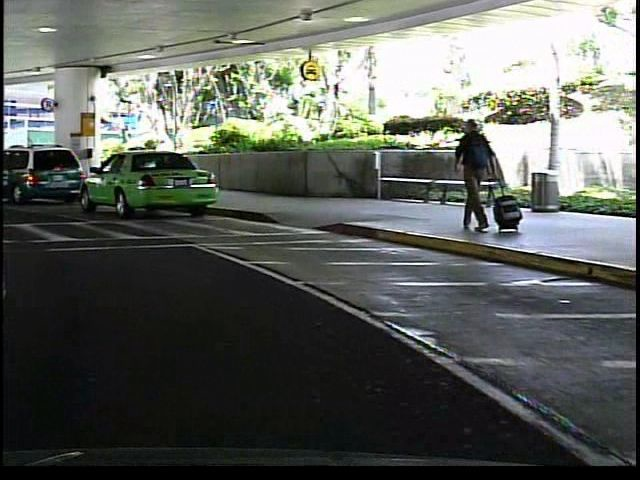person: (445, 112, 501, 243)
